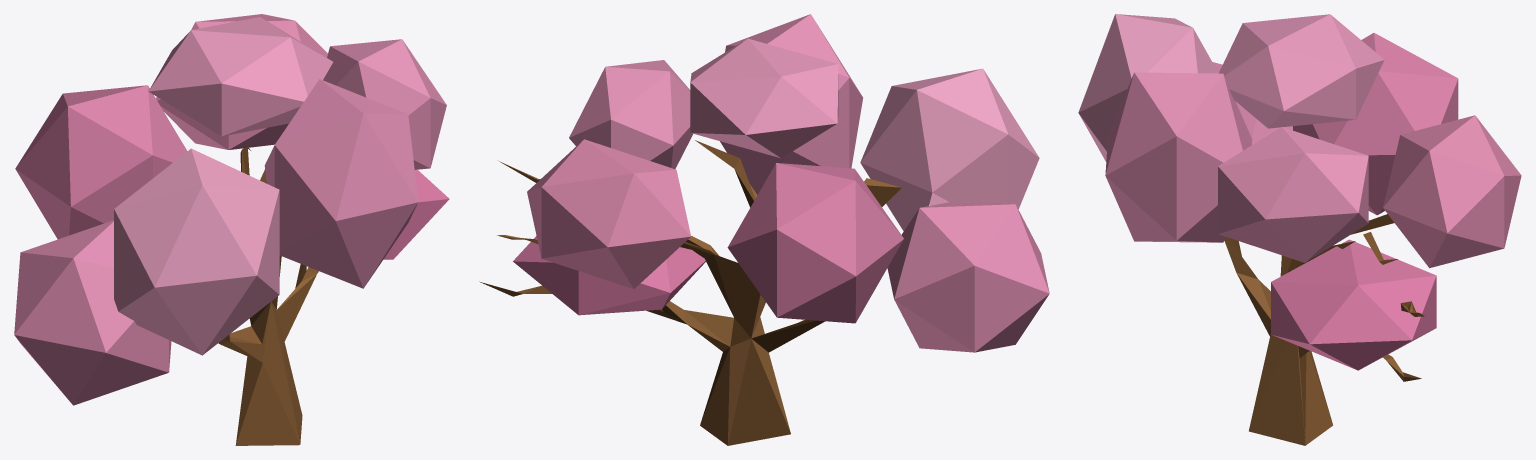
The model's file is cherry_3_bloom_far.glb.
3 renders of one model, left to right at view 1: azimuth 30°, elevation 25°; view 2: azimuth 150°, elevation 25°; view 3: azimuth 270°, elevation 25°, orthographic. The views are drawn at different scales.
Visible parts, largest first — view 1: cherry_3_bloom_far; view 2: cherry_3_bloom_far; view 3: cherry_3_bloom_far.
Part boxes in pixels (left/top/right/bottom): cherry_3_bloom_far: left=14, top=14, right=449, bottom=445; cherry_3_bloom_far: left=479, top=14, right=1049, bottom=445; cherry_3_bloom_far: left=1078, top=14, right=1521, bottom=445.
Size of the model in its own units: 9.37 by 7.17 by 7.47.
